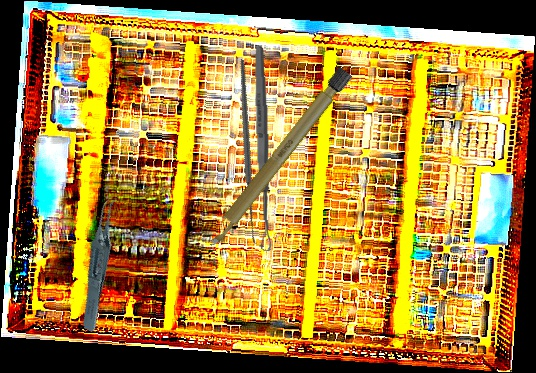Hook Surgical: (167, 58, 336, 248)
Scalpel Handle: (203, 65, 353, 251)
Surgical Spoon: (252, 45, 273, 252)
Tissue Forceps: (56, 192, 147, 333)
